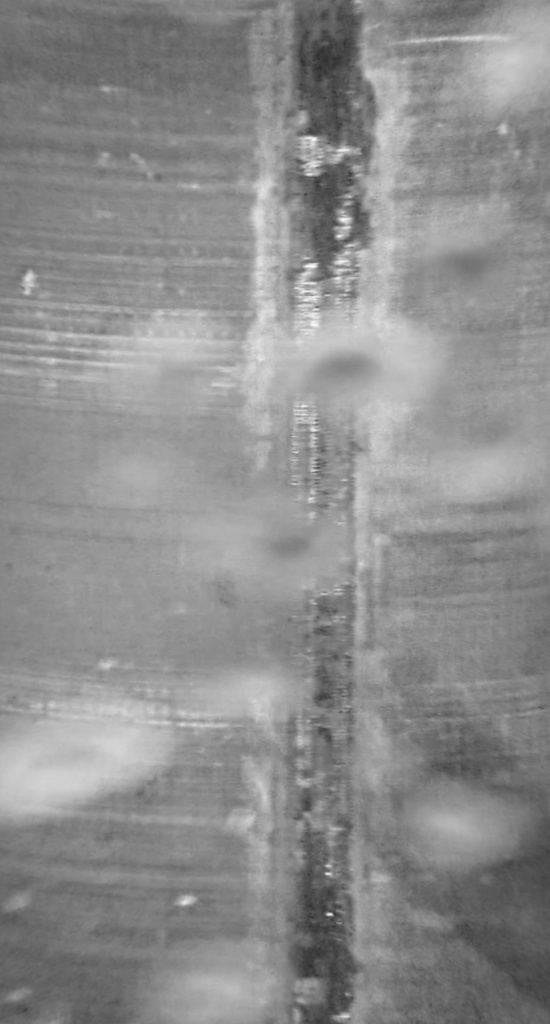splice: (282, 1, 379, 1022)
